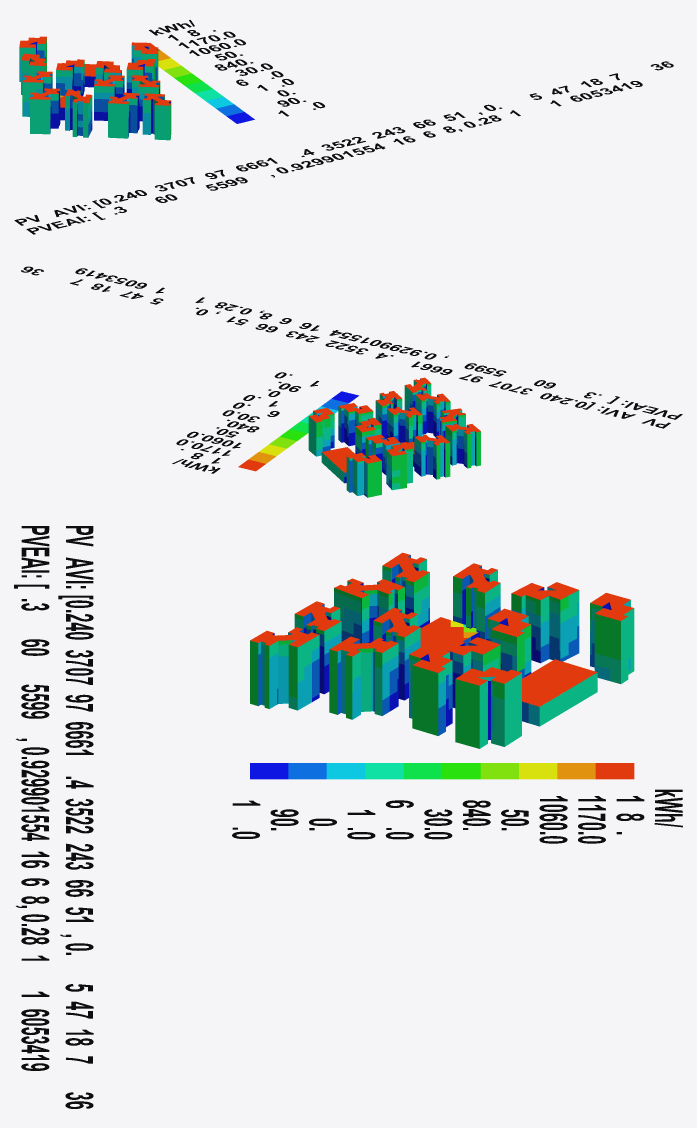
File: punggol_luse101_pveavi.dae
3 renders of one model, top to bottom at view 1: azimuth 30°, elevation 25°; view 2: azimuth 150°, elevation 25°; view 3: azimuth 270°, elevation 25°, orthographic. The views are drawn at different scales.
Parts seen in each view (by area): view 1: node0 (×7); view 2: node0 (×7); view 3: node0 (×7).
Boxes of the visible parts, x1,y1,x2,y2 form: node0 (×7): [14, 20, 673, 234]; node0 (×7): [21, 266, 682, 497]; node0 (×7): [14, 526, 682, 1108].
Bounding box in the file's own units: 958 × 461 × 48.01.
